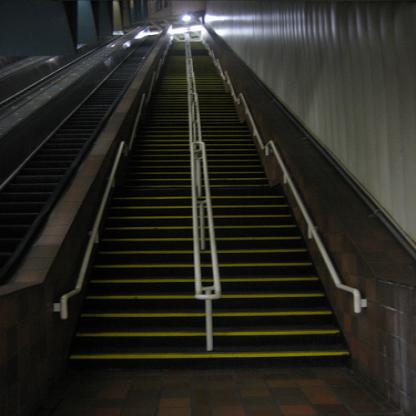stairs: (88, 300, 195, 368)
